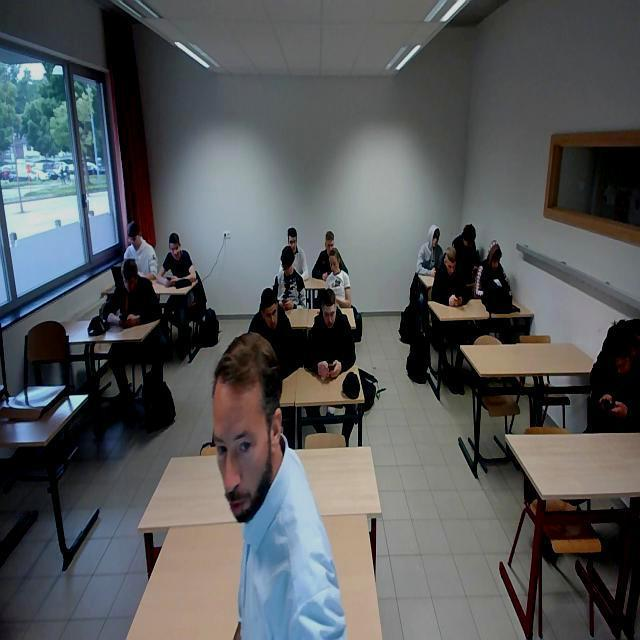Looking away: (263, 288, 278, 328), (129, 222, 145, 250)
Looking forward: (209, 357, 277, 521)
Phone use: (590, 317, 640, 432), (304, 288, 352, 378), (104, 257, 156, 327), (273, 247, 303, 311), (476, 240, 510, 296), (158, 232, 192, 288), (433, 249, 464, 307), (324, 246, 351, 307), (418, 224, 444, 277), (451, 225, 478, 273)
